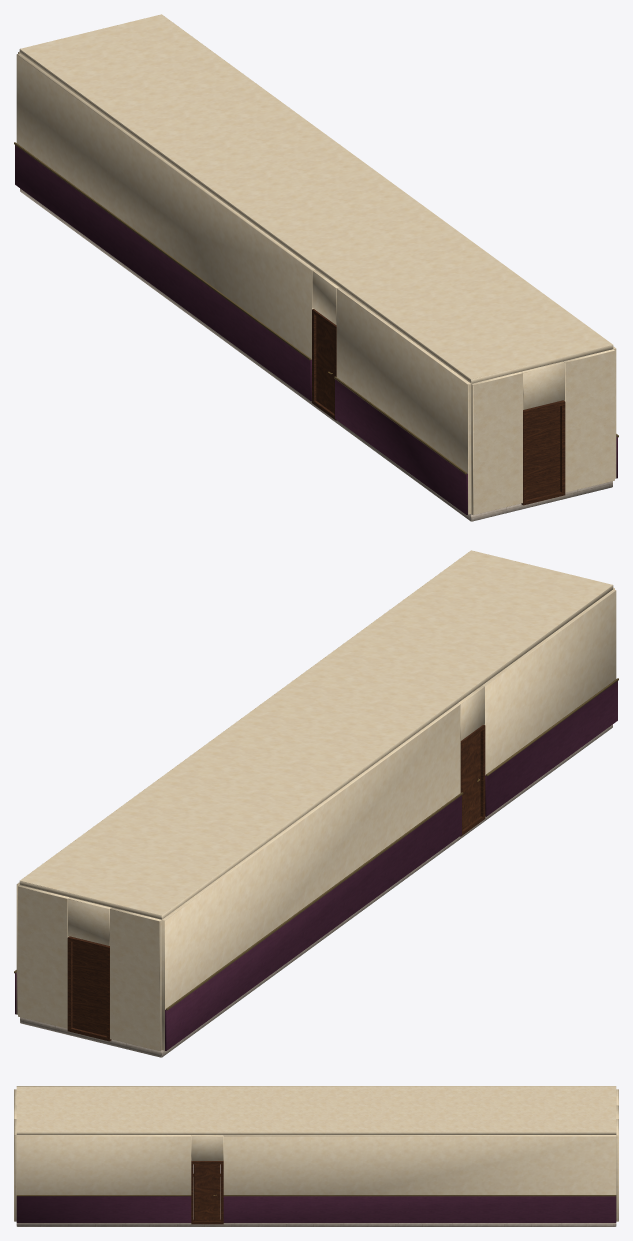
File: explore3d__lower_corridor.glb
3 renders of one model, top to bottom at view 1: azimuth 30°, elevation 25°; view 2: azimuth 150°, elevation 25°; view 3: azimuth 270°, elevation 25°, orthographic. The views are drawn at different scales.
Parts seen in each view (by area): view 1: Rebuilt_lower_corridor; view 2: Rebuilt_lower_corridor; view 3: Rebuilt_lower_corridor.
Part boxes in pixels (x1,y1,x2,y2): Rebuilt_lower_corridor: (14, 14, 618, 521); Rebuilt_lower_corridor: (14, 550, 618, 1057); Rebuilt_lower_corridor: (14, 1086, 618, 1226).
Bounding box in the file's own units: 4.32 × 3.84 × 22.19.
Materials: 13 (12 with a texture image).
